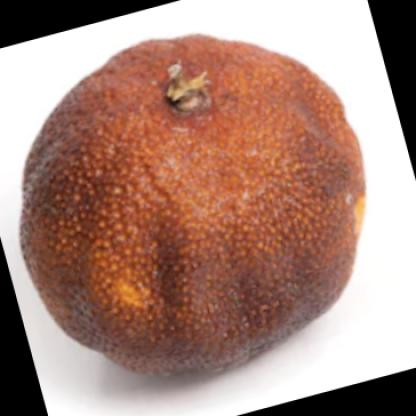rotten: (24, 36, 365, 382)
